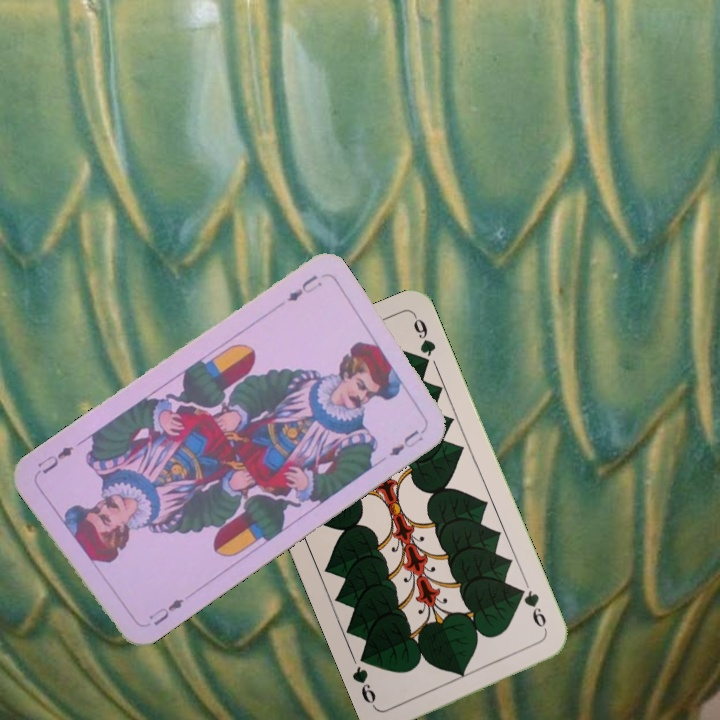EU: (144, 594, 187, 629), (282, 271, 325, 305)
G9: (514, 584, 551, 637)
